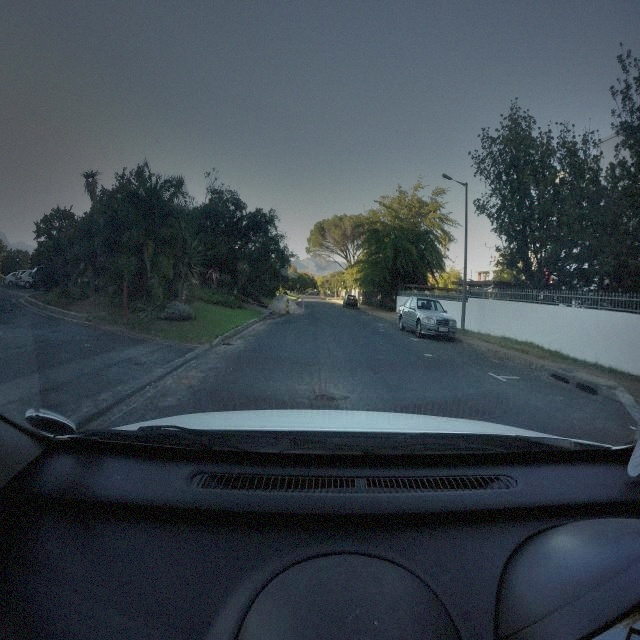pothole: (315, 392, 337, 404)
